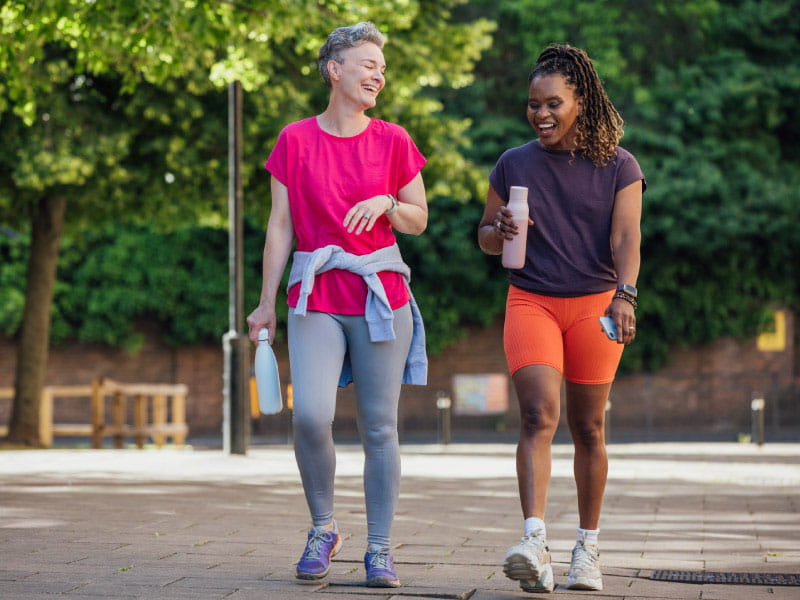person: (235, 20, 444, 589), (476, 36, 667, 596)
